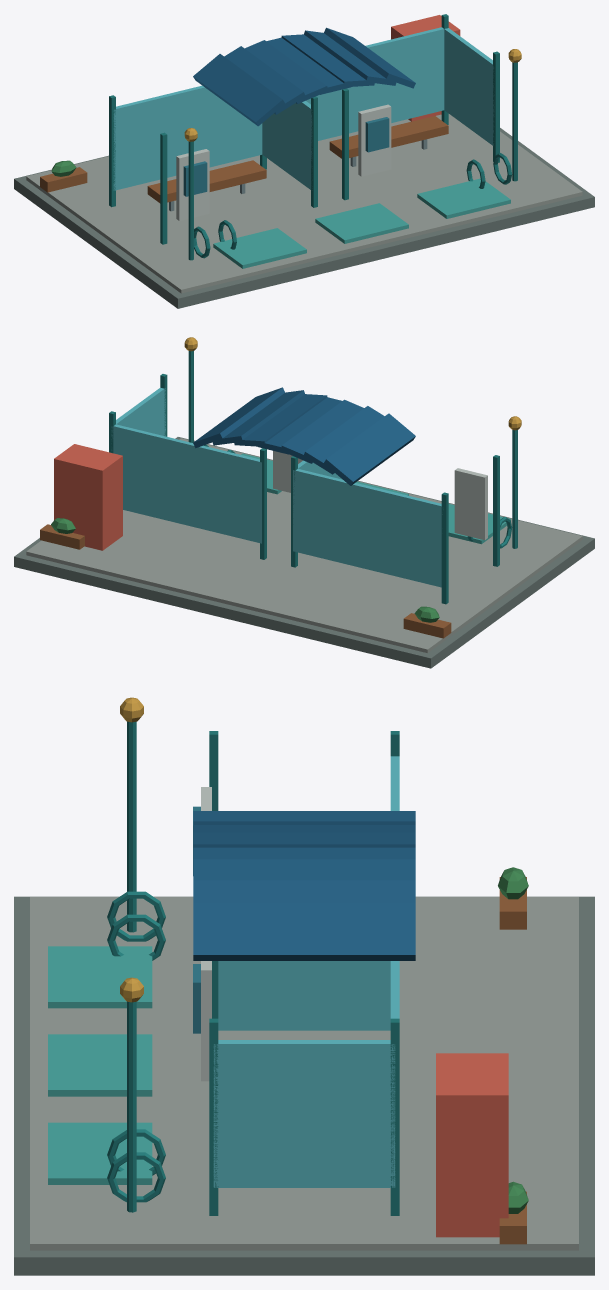
Rendered from bus_stop_lv4.glb.
3 renders of one model, top to bottom at view 1: azimuth 30°, elevation 25°; view 2: azimuth 150°, elevation 25°; view 3: azimuth 270°, elevation 25°, orthographic. The views are drawn at different scales.
Visible parts, largest first — view 1: rough, glossy, metallic; view 2: rough, glossy, metallic; view 3: rough, glossy, metallic.
Boxes of the visible parts, <box> form: rough: <box>14,14,594,308</box>; glossy: <box>113,27,494,196</box>; metallic: <box>169,27,427,211</box>; rough: <box>14,337,594,668</box>; glossy: <box>111,387,443,587</box>; metallic: <box>193,387,415,485</box>; rough: <box>14,697,594,1275</box>; glossy: <box>193,756,399,1187</box>; metallic: <box>193,811,415,960</box>.
Size of the model in its own units: 9.4 by 3.12 by 6.4.
